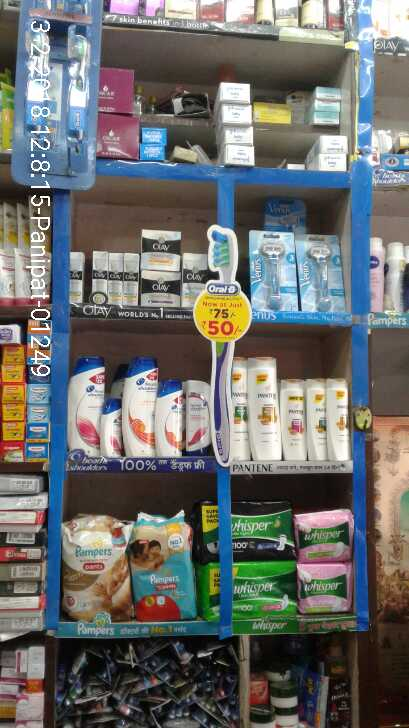venus: (250, 231, 300, 312), (300, 233, 343, 313)
